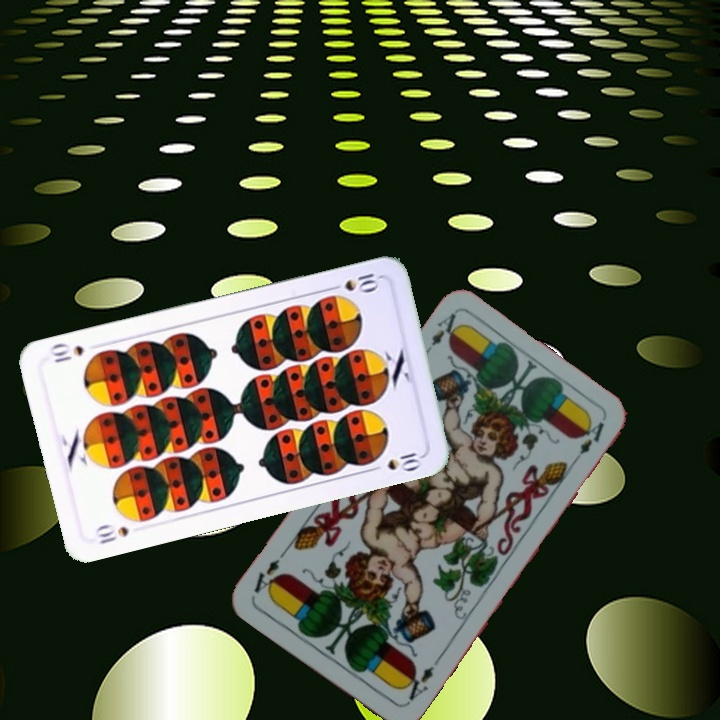EA: (417, 309, 465, 361), (398, 655, 442, 707)
S10: (324, 269, 383, 294), (91, 520, 132, 547)
